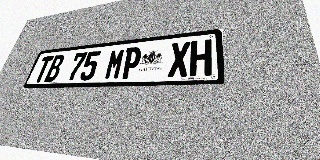5: (79, 51, 101, 81)
7: (65, 52, 88, 81)
B: (44, 54, 66, 82)
H: (189, 39, 212, 76)
M: (103, 48, 126, 80)
P: (120, 46, 143, 79)
T: (32, 56, 54, 83)
X: (168, 41, 190, 77)
